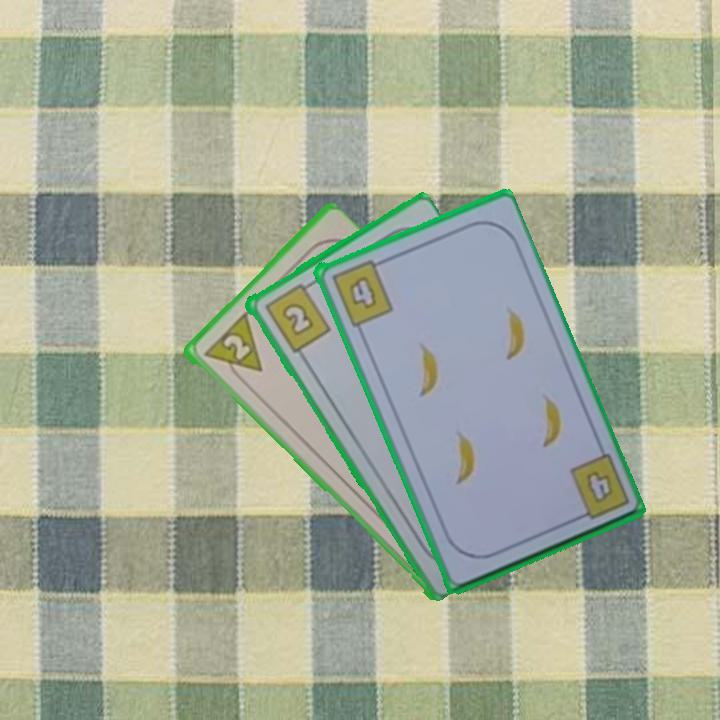2b: (260, 278, 333, 355)
2p: (199, 310, 265, 387)
4b: (327, 255, 396, 329), (582, 466, 616, 506)
